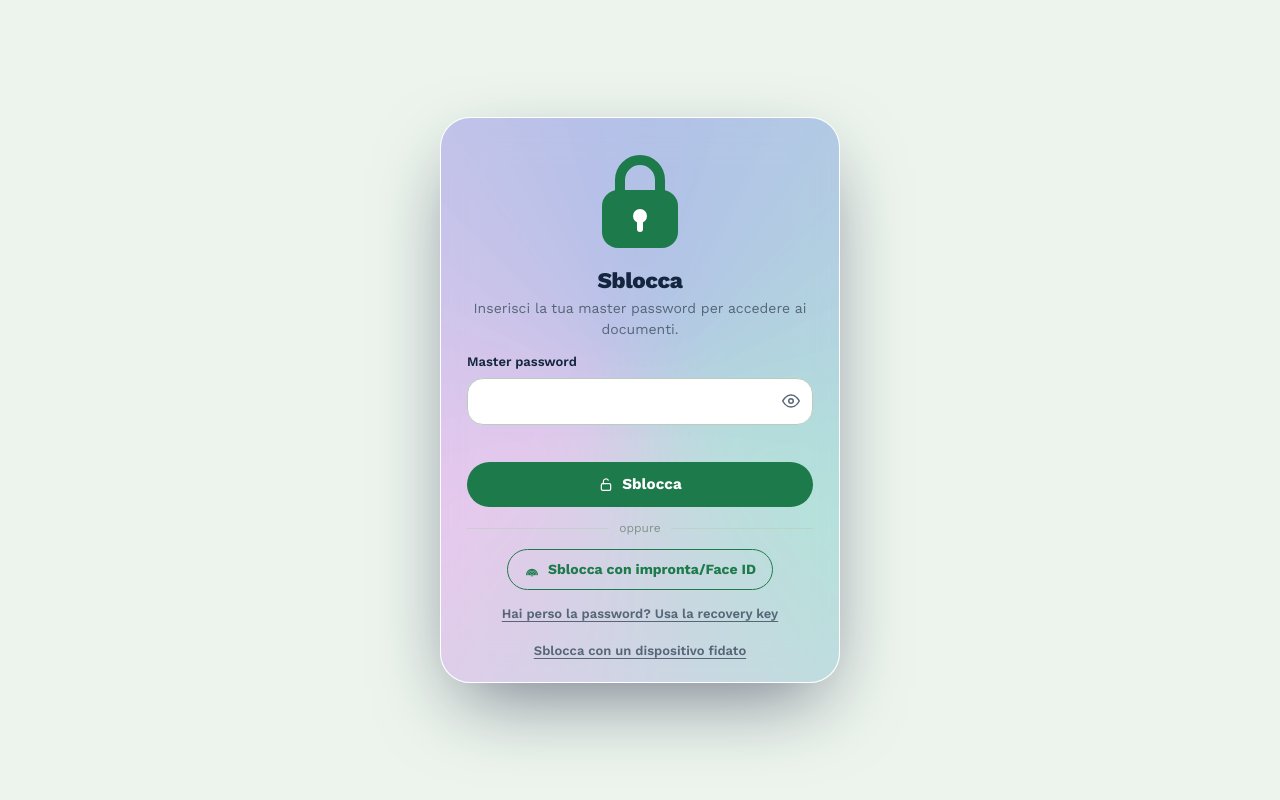
Scenario: UnlockDialog — impronta e chiusura › se l'impronta non riesce mostra l'errore e la password resta usabile
The width and height of the screenshot is (1280, 800).
Step 1. Click the button "Sblocca con impronta/Face ID" → click(640, 570), box [507,550,773,590]
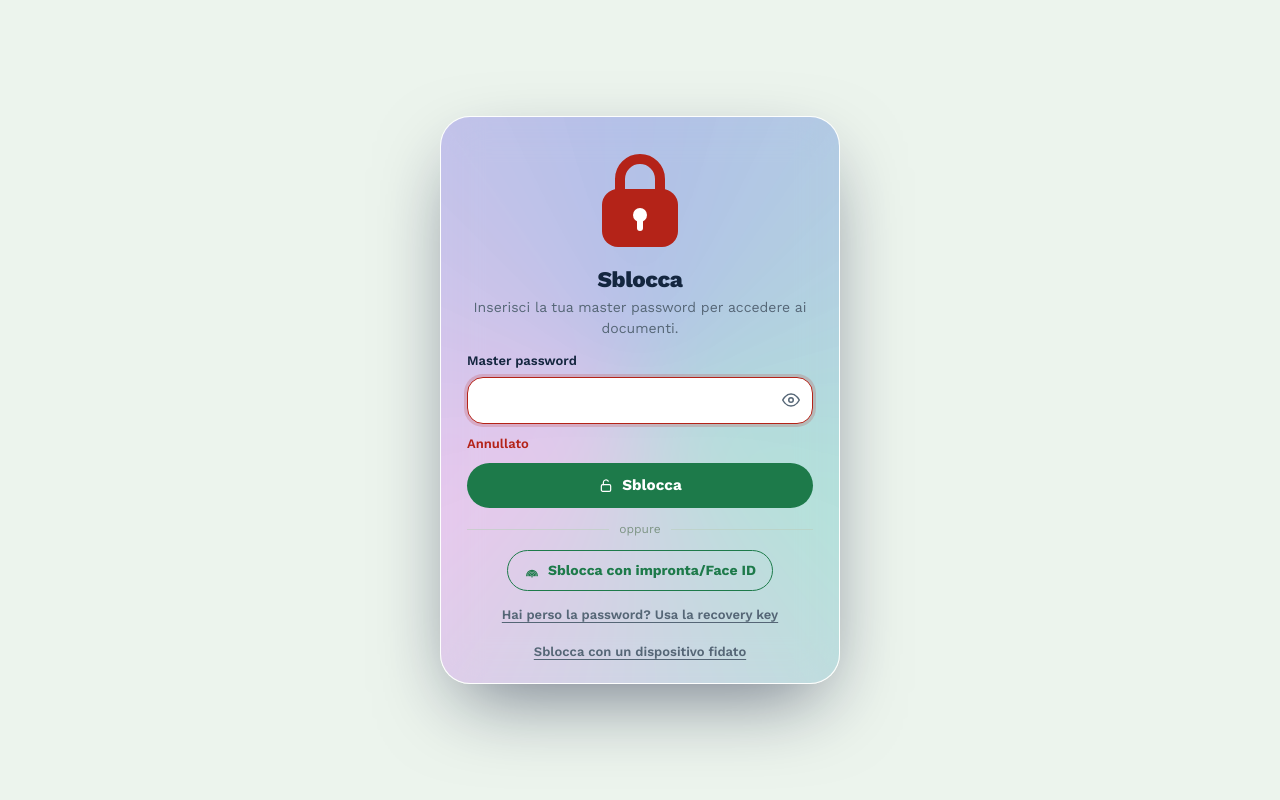
Check: the password field labelled "Master password" is shown, box [467,377,813,424]
Check: the message reads "Annullato", box [467,436,529,451]
